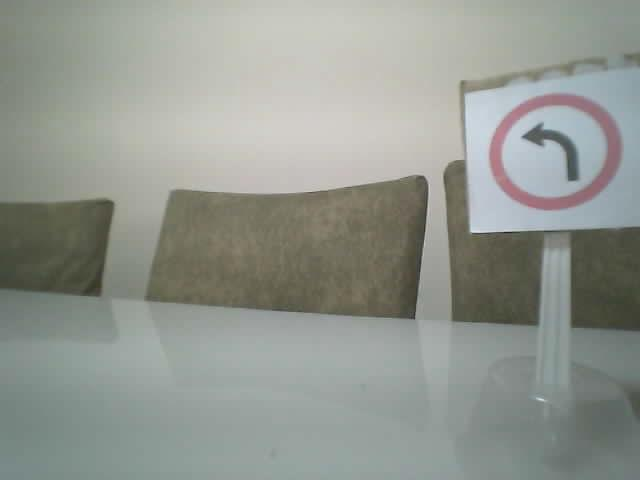R-25a_esquerda: (488, 92, 619, 209)
